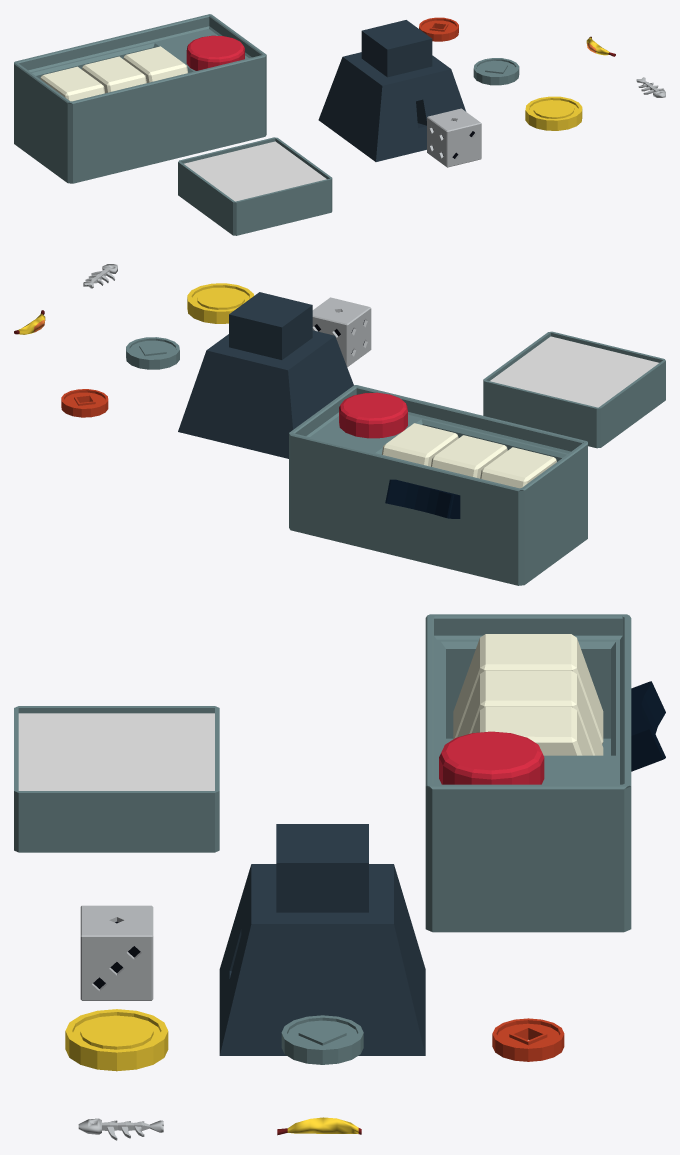
The model's file is props.glb.
The picture shows the model from 3 angles, top to bottom: view 1: azimuth 30°, elevation 25°; view 2: azimuth 150°, elevation 25°; view 3: azimuth 270°, elevation 25°; orthographic projection. The views are drawn at different scales.
Visible parts, largest first — view 1: arcader_a, weight_a, arcader_b, arcader_b_screen, dice_a, coin_c, arcader_a_button, coin_b, coin_a; view 2: arcader_a, weight_a, arcader_b, arcader_b_screen, arcader_a_button, dice_a, coin_c, arcader_a_dispenser, coin_b, coin_a; view 3: arcader_a, weight_a, arcader_b_screen, arcader_b, dice_a, coin_c, arcader_a_button, coin_b, coin_a, arcader_a_dispenser, banana, fish-bones.
Boxes of the visible parts, bbox=[...] form: arcader_a: bbox=[14, 14, 266, 183]; weight_a: bbox=[318, 20, 466, 161]; arcader_b: bbox=[178, 137, 332, 235]; arcader_b_screen: bbox=[184, 141, 326, 201]; dice_a: bbox=[427, 108, 481, 167]; coin_c: bbox=[525, 96, 582, 130]; arcader_a_button: bbox=[186, 35, 244, 70]; coin_b: bbox=[473, 58, 519, 85]; coin_a: bbox=[419, 17, 458, 41]; arcader_a: bbox=[289, 385, 587, 585]; weight_a: bbox=[178, 292, 353, 458]; arcader_b: bbox=[483, 331, 665, 448]; arcader_b_screen: bbox=[490, 336, 658, 407]; arcader_a_button: bbox=[339, 392, 407, 438]; dice_a: bbox=[312, 297, 371, 367]; coin_c: bbox=[187, 283, 253, 323]; arcader_a_dispenser: bbox=[385, 479, 460, 518]; coin_b: bbox=[126, 337, 179, 369]; coin_a: bbox=[61, 389, 108, 417]; arcader_a: bbox=[425, 614, 631, 932]; weight_a: bbox=[219, 824, 425, 1055]; arcader_b_screen: bbox=[18, 713, 214, 790]; arcader_b: bbox=[14, 706, 219, 852]; dice_a: bbox=[80, 905, 153, 1000]; coin_c: bbox=[65, 1009, 168, 1071]; arcader_a_button: bbox=[439, 731, 544, 784]; coin_b: bbox=[281, 1015, 363, 1064]; coin_a: bbox=[492, 1018, 564, 1061]; arcader_a_dispenser: bbox=[631, 681, 665, 771]; banana: bbox=[277, 1117, 361, 1135]; fish-bones: bbox=[78, 1118, 163, 1140].
Bounding box in the file's own units: 10.2 × 1.88 × 6.34.
Materials: 1 (1 with a texture image).
